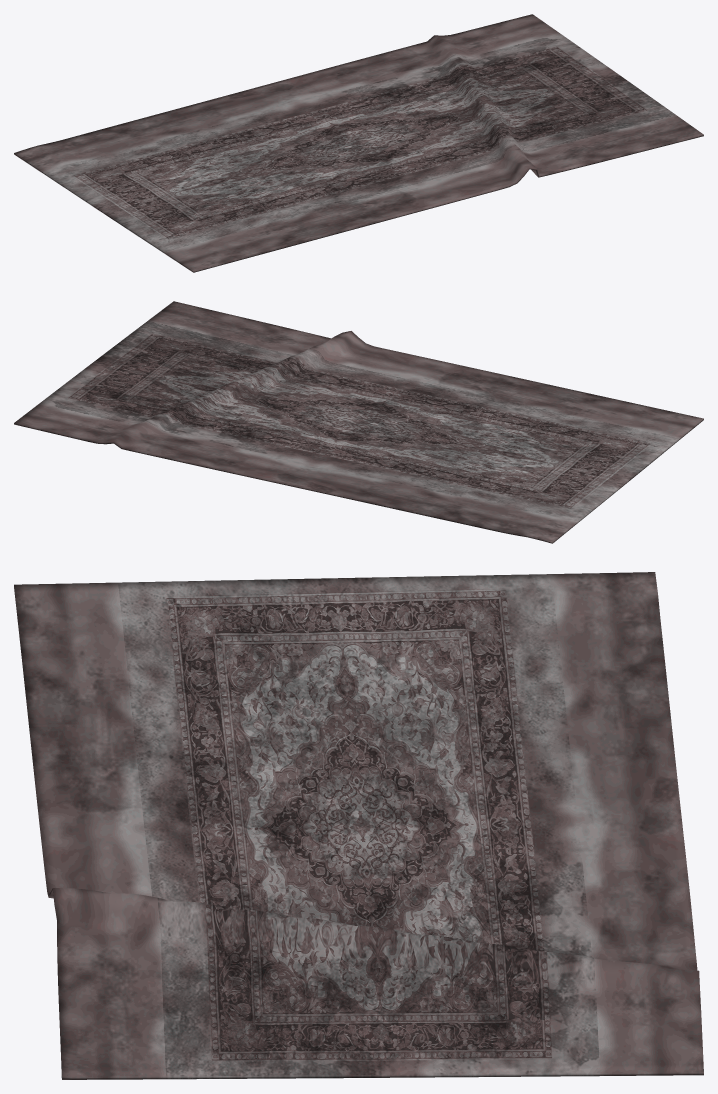
The model's file is SM_Carpet02.fbx.
The picture shows the model from 3 angles, top to bottom: view 1: azimuth 30°, elevation 25°; view 2: azimuth 150°, elevation 25°; view 3: azimuth 270°, elevation 25°; orthographic projection. The views are drawn at different scales.
Visible parts, largest first — view 1: SM_Carpet02_LOD0; view 2: SM_Carpet02_LOD0; view 3: SM_Carpet02_LOD0.
Boxes of the visible parts, x1,y1,x2,y2 form: SM_Carpet02_LOD0: (14, 14, 703, 272); SM_Carpet02_LOD0: (14, 301, 703, 543); SM_Carpet02_LOD0: (14, 572, 703, 1079).
Size of the model in its own units: 244 by 141 by 5.83.
